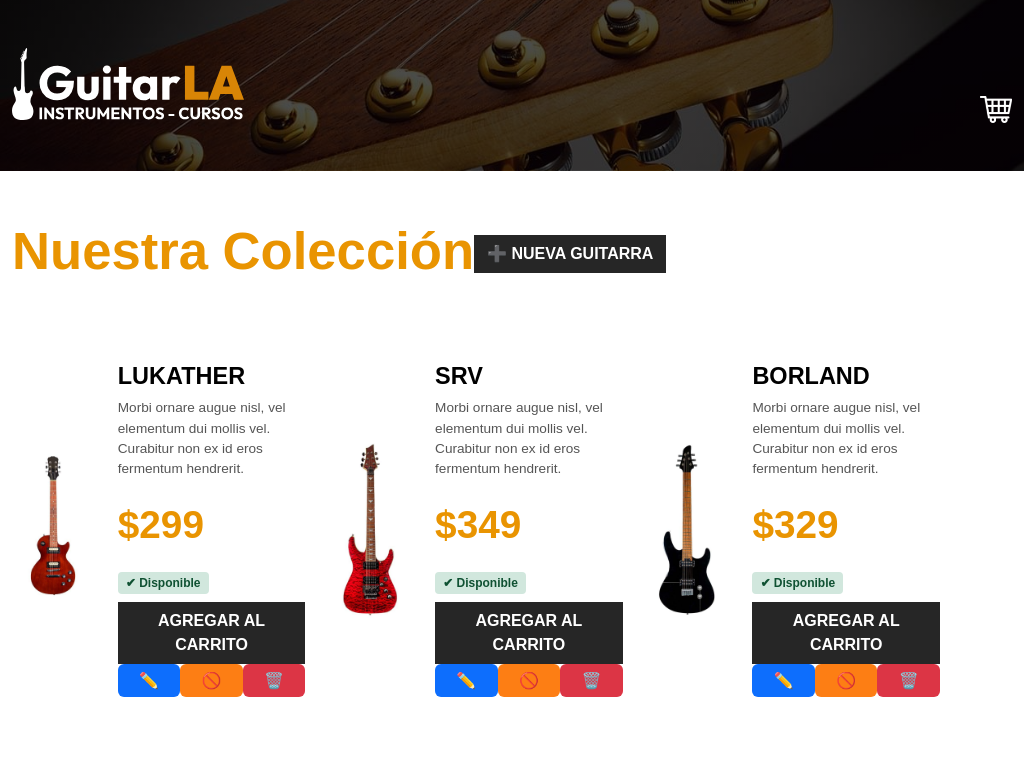
Scenario: Modal de guitarra (crear/editar) › deberia abrir el modal de creación al hacer clic en "Nueva Guitarra"
Click the button titled "Agregar nueva guitarra": (570, 254) 474,235 -> 666,273
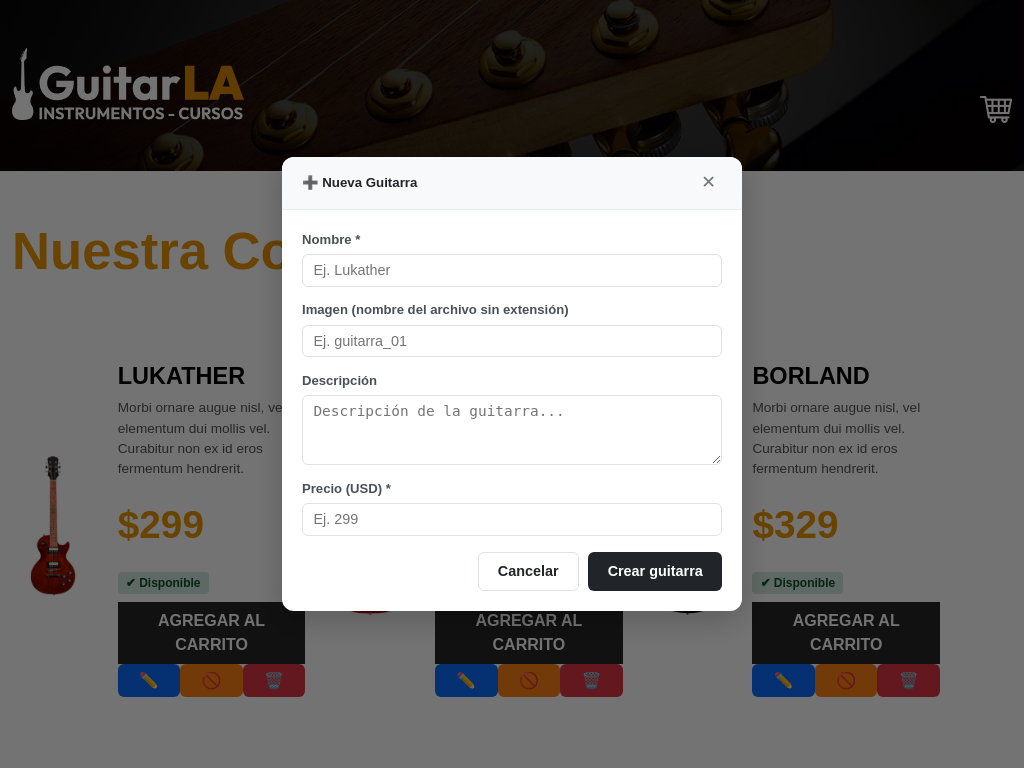
Expected: the button "Crear guitarra" is shown, 588,552 -> 722,591
